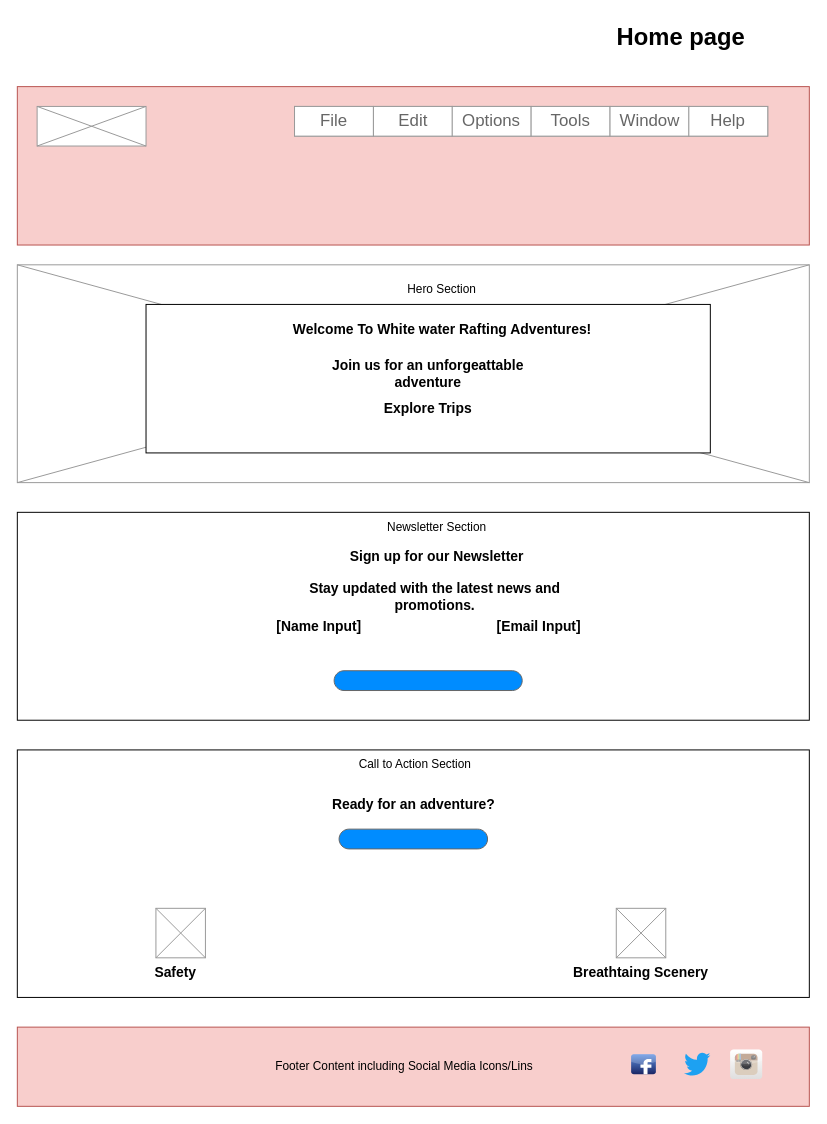
Image size: 827x1124. Some labels were removed from this diagram. Here are the shapes that lost their labels. From the top down, the centre of each, then its label:
At point (427, 680): "Subscribe".
At point (413, 838): "Explore our trips".
